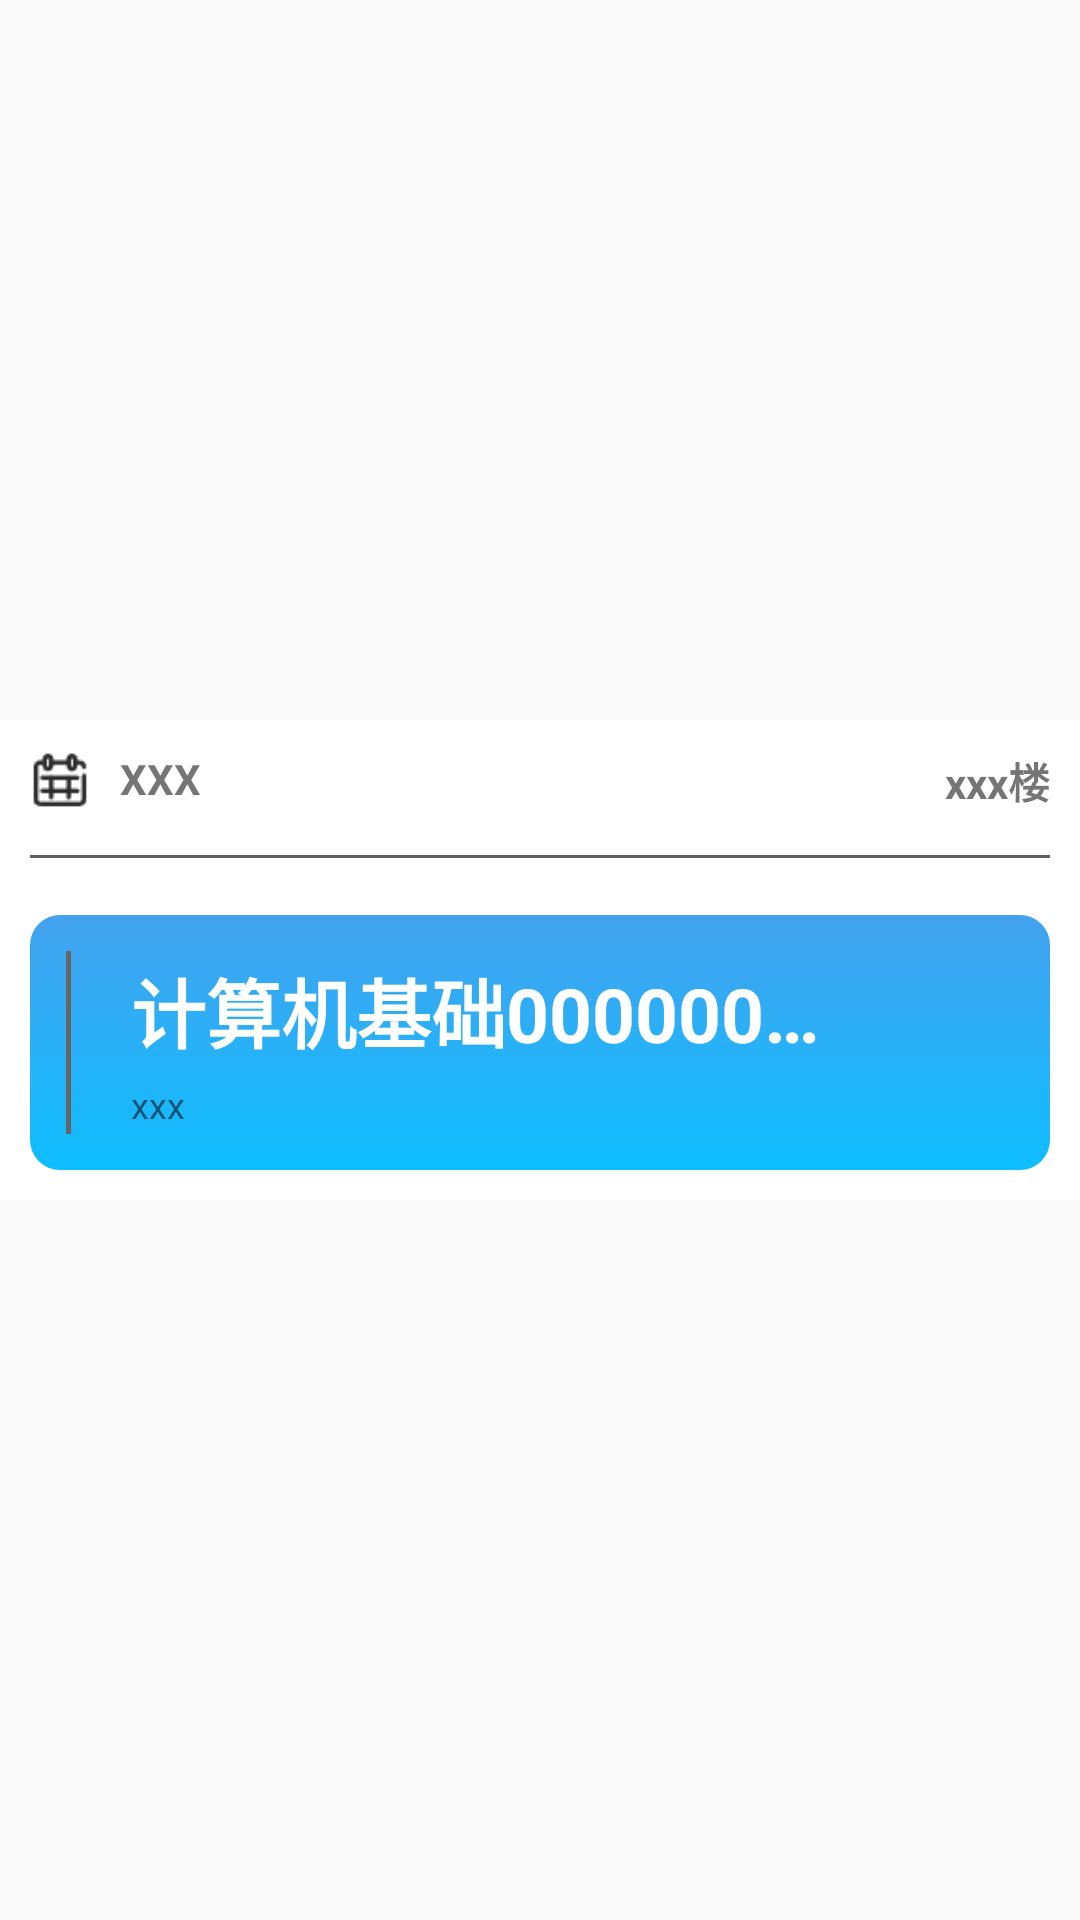

Point at icon controls on the screen. Image size 1080*1920, points as [x,y].
kecehngbiao: [60,780]
